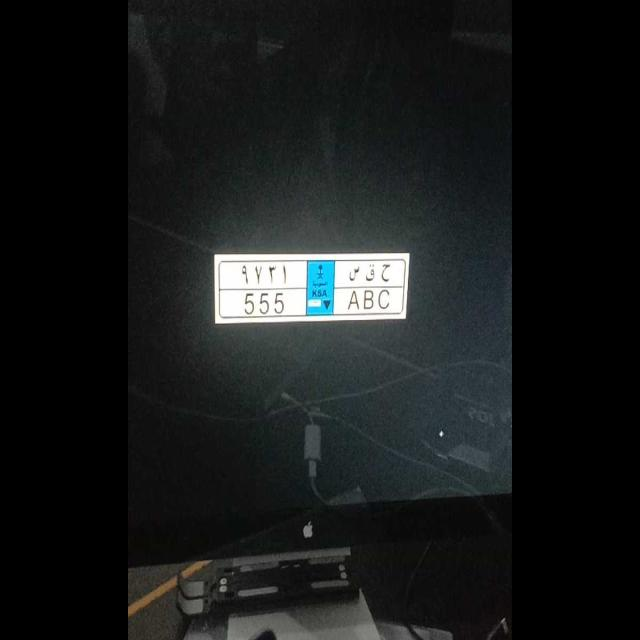license_plate: (233, 286, 398, 318)
